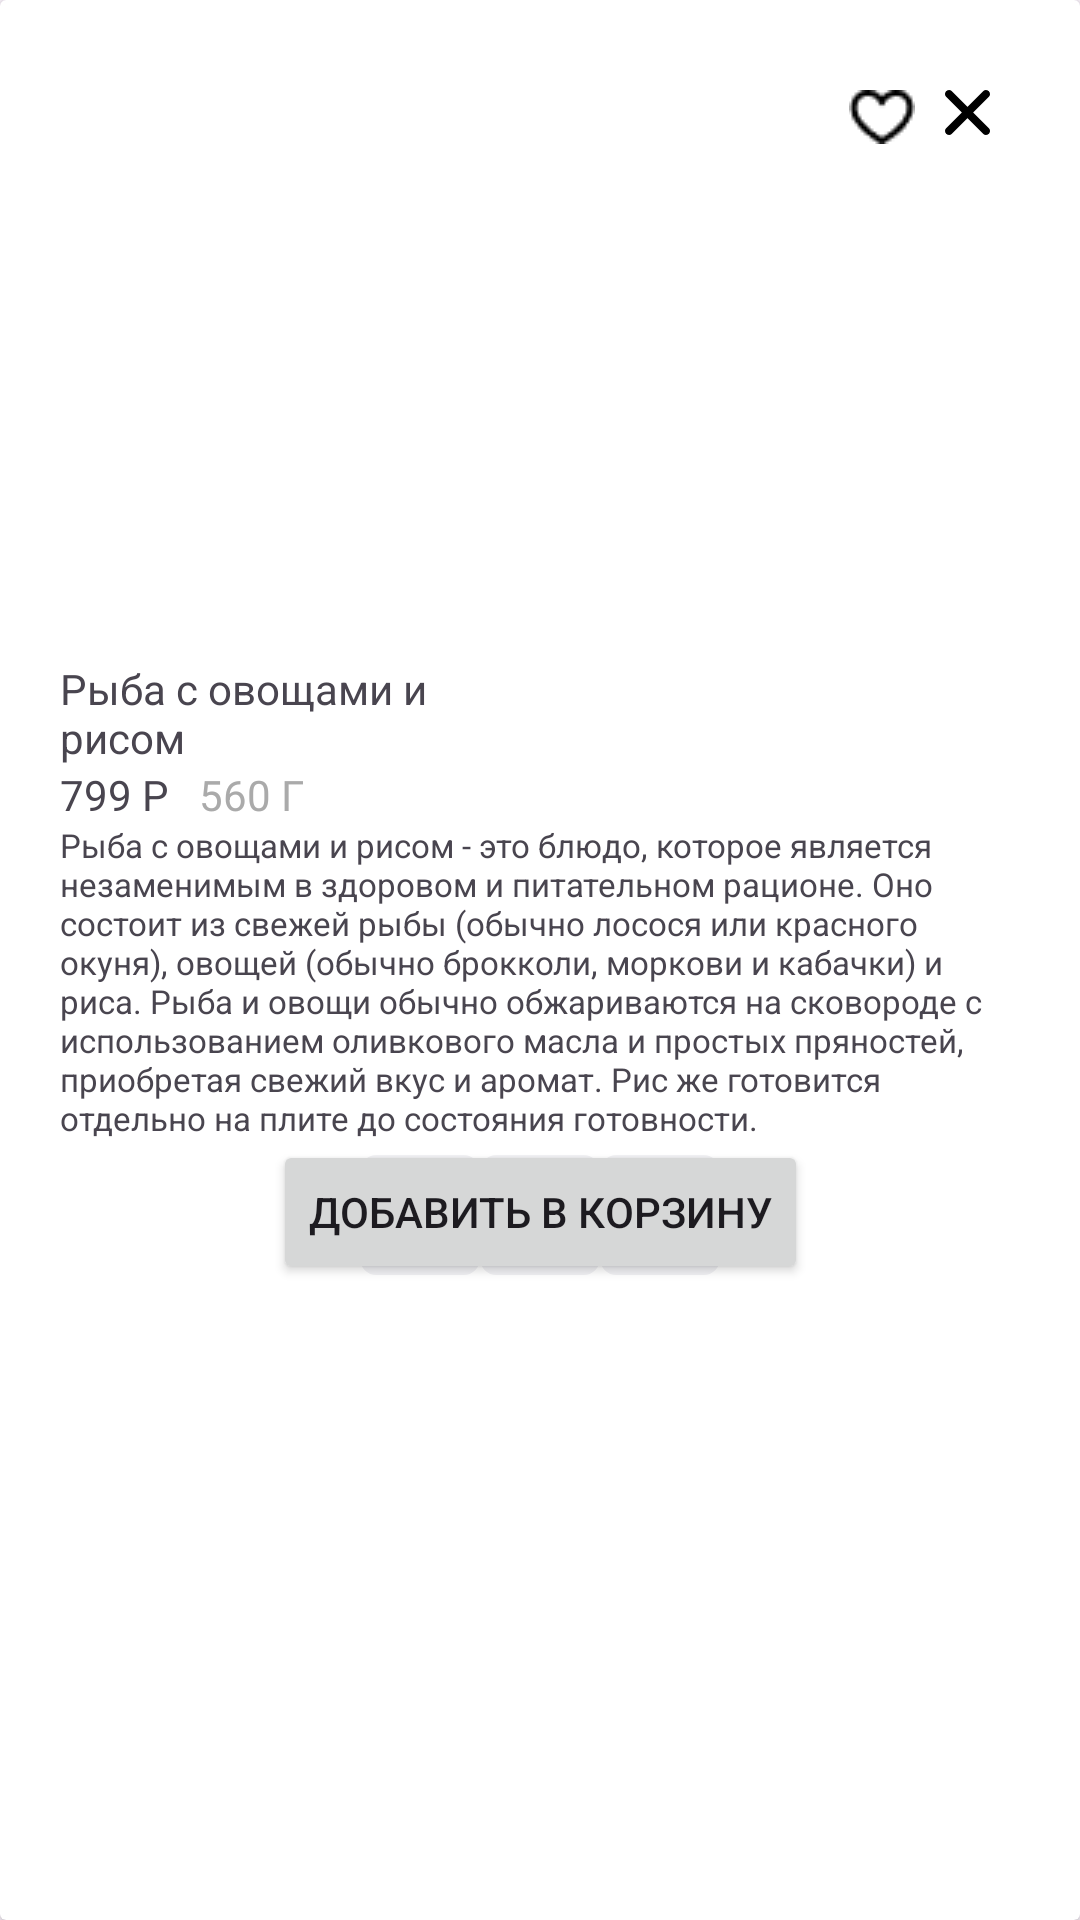

Named icons in this screenshot (1080w x 1920h) and their bounding boxes, (x1, y1, x2, y2):
close: (945, 90, 990, 135)
favorite: (849, 90, 915, 144)
